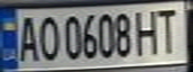0: (60, 11, 81, 61), (97, 10, 118, 58)
6: (78, 11, 100, 61)
8: (112, 9, 136, 57)
A: (12, 12, 42, 63)
H: (133, 6, 163, 56)
O: (33, 12, 60, 62)
T: (151, 4, 184, 55)
